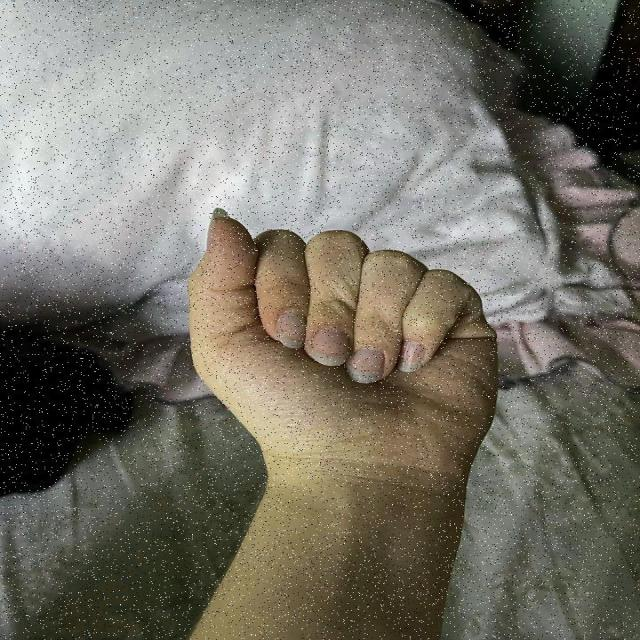A: (181, 204, 515, 483)
